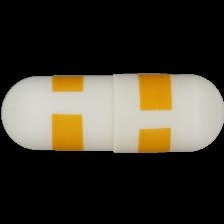68788-9273: (0, 0, 224, 224)
